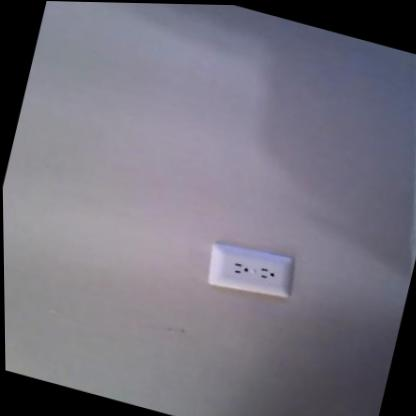OUTLET: (205, 236, 295, 306)
